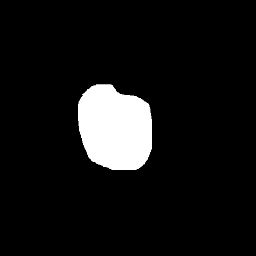mass: (81, 91, 150, 164)
